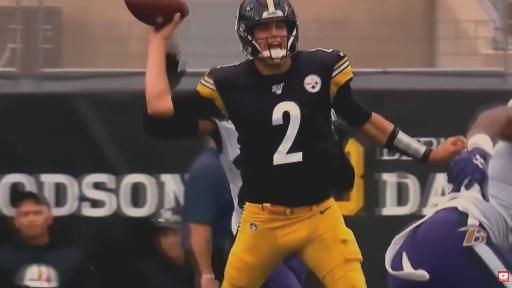Helmet: (236, 0, 298, 60)
Jersey: (197, 50, 354, 206), (215, 119, 242, 234), (488, 141, 511, 248)
Player: (146, 0, 465, 287), (386, 102, 511, 287), (144, 114, 242, 234)
